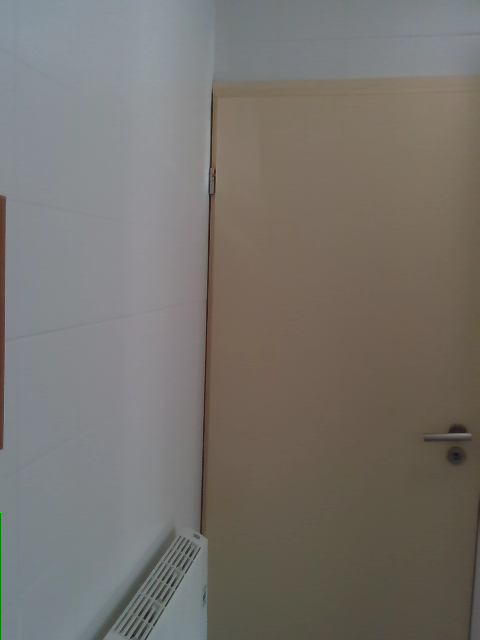closed: (198, 77, 479, 639)
